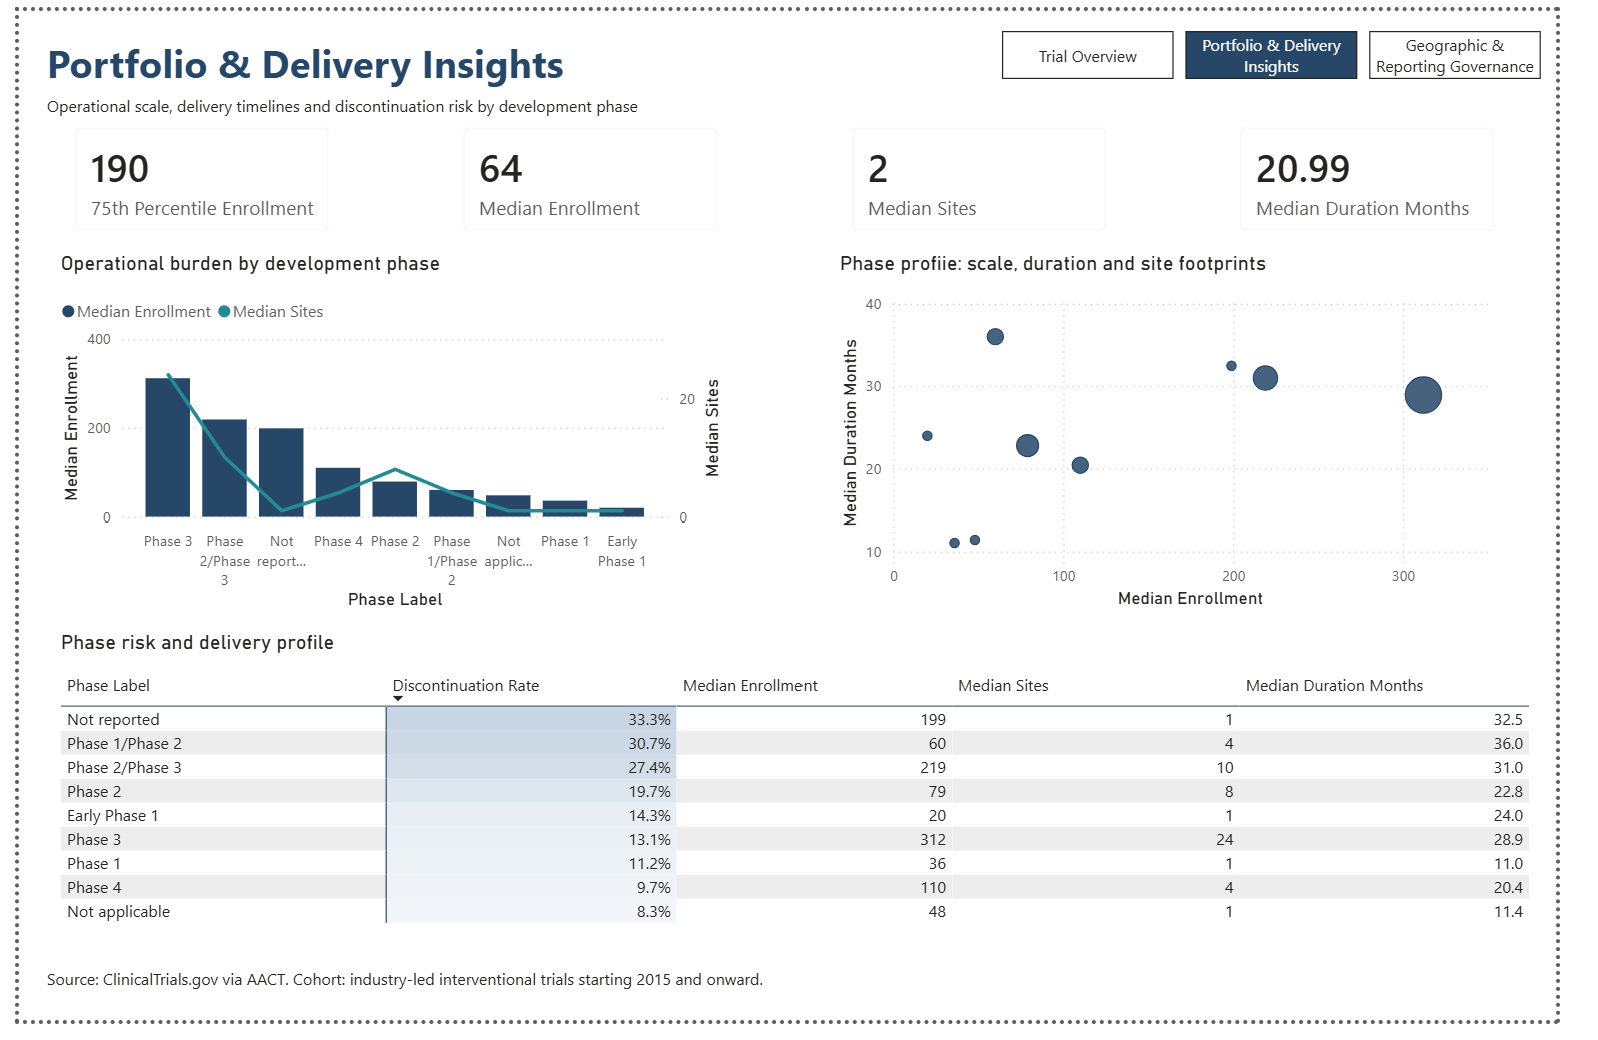

This screenshot's page, from the dashboard's own definition file:
{"tool":"powerbi","page":{"name":"Portfolio & Delivery Insights","canvas":[1280,840],"ordinal":1},"visuals":[{"type":"group","id":"g1","title":"Group 1","box":[30,80,1238.3,720],"z":0},{"type":"cardVisual","fields":{"Data":["FactTrials.Median Enrollment"]},"box":[353.3,80,245,120],"z":0,"group":"g1"},{"type":"textbox","box":[18.3,16.7,505,63.3],"z":1000},{"type":"cardVisual","fields":{"Data":["FactTrials.75th Percentile Enrollment"]},"box":[30,80,245,120],"z":1000,"group":"g1"},{"type":"textbox","box":[17.8,64.4,540,30],"z":2000},{"type":"cardVisual","fields":{"Data":["FactTrials.Median Sites"]},"box":[676.7,80,245,120],"z":2000,"group":"g1"},{"type":"textbox","box":[18,792,780,48],"z":2001},{"type":"pageNavigator","box":[818.3,16.7,450,40],"z":2002},{"type":"cardVisual","fields":{"Data":["FactTrials.Median Duration Months"]},"box":[1000,80,245,120],"z":3000,"group":"g1"},{"type":"lineClusteredColumnComboChart","title":"Operational burden by development phase","fields":{"Category":["FactTrials.Phase Label"],"Y":["FactTrials.Median Enrollment"],"Y2":["FactTrials.Median Sites"]},"box":[30,200,560,301.7],"z":4000,"group":"g1"},{"type":"scatterChart","title":"Phase profiie: scale, duration and site footprints","fields":{"Y":["FactTrials.Median Duration Months"],"X":["FactTrials.Median Enrollment"],"Size":["FactTrials.Median Sites"],"Category":["FactTrials.Phase Label"]},"box":[678.3,200,560,301.7],"z":5000,"group":"g1"},{"type":"pivotTable","title":"Phase risk and delivery profile","fields":{"Values":["FactTrials.Discontinuation Rate","FactTrials.Median Enrollment","FactTrials.Median Sites","FactTrials.Median Duration Months"],"Rows":["FactTrials.Phase Label"]},"box":[30,515,1238.3,285],"z":6000,"group":"g1"}]}

Visuals, with their boxes in screenshot pixels (x1, y1, x2, y2), scaled from the page's 1280x840 canvas onto the 1598x1040 screenshot:
"Group 1" group: left=37, top=99, right=1583, bottom=990
cardVisual - FactTrials.Median Enrollment: left=441, top=99, right=747, bottom=248
textbox: left=23, top=21, right=653, bottom=99
cardVisual - FactTrials.75th Percentile Enrollment: left=37, top=99, right=343, bottom=248
textbox: left=22, top=80, right=696, bottom=117
cardVisual - FactTrials.Median Sites: left=845, top=99, right=1151, bottom=248
textbox: left=22, top=981, right=996, bottom=1039
pageNavigator: left=1022, top=21, right=1583, bottom=70
cardVisual - FactTrials.Median Duration Months: left=1248, top=99, right=1554, bottom=248
"Operational burden by development phase" lineClusteredColumnComboChart: left=37, top=248, right=737, bottom=621
"Phase profiie: scale, duration and site footprints" scatterChart: left=847, top=248, right=1546, bottom=621
"Phase risk and delivery profile" pivotTable: left=37, top=638, right=1583, bottom=990
